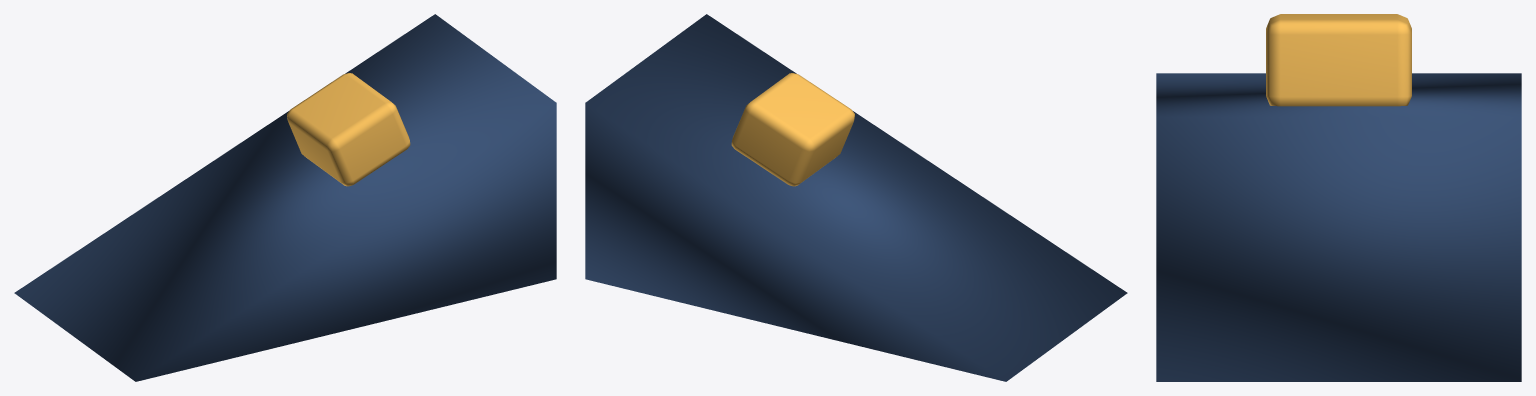
File: inclined-plane-lite.glb
3 renders of one model, left to right at view 1: azimuth 30°, elevation 25°; view 2: azimuth 150°, elevation 25°; view 3: azimuth 270°, elevation 25°, orthographic. The views are drawn at different scales.
Visible parts, largest first — view 1: Ramp; view 2: Ramp; view 3: Ramp.
Boxes of the visible parts, bbox=[...] form: Ramp: bbox=[14, 14, 556, 381]; Ramp: bbox=[585, 14, 1127, 381]; Ramp: bbox=[1156, 14, 1521, 381].
Bounding box in the file's own units: 2 × 0.8062 × 1.
